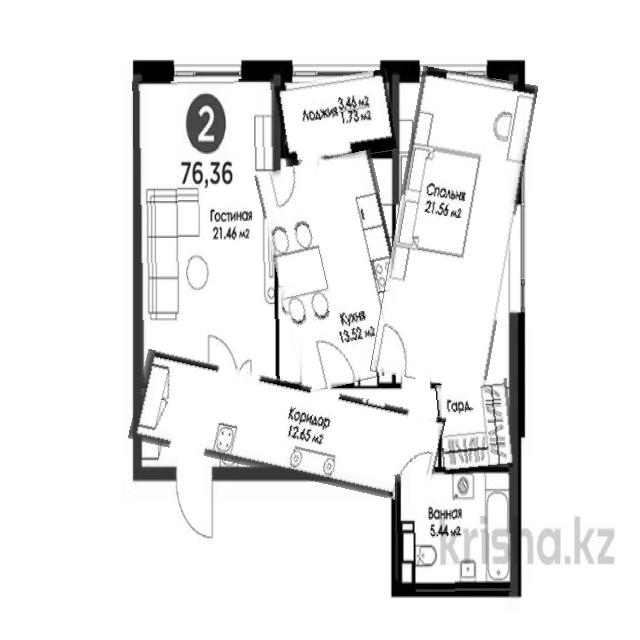balcony: (278, 73, 397, 163)
bathroom: (394, 473, 514, 592)
hallway: (131, 366, 443, 490)
kitchen: (266, 155, 409, 389)
living_room: (382, 70, 525, 387), (134, 79, 279, 387)
other: (438, 381, 514, 474)
